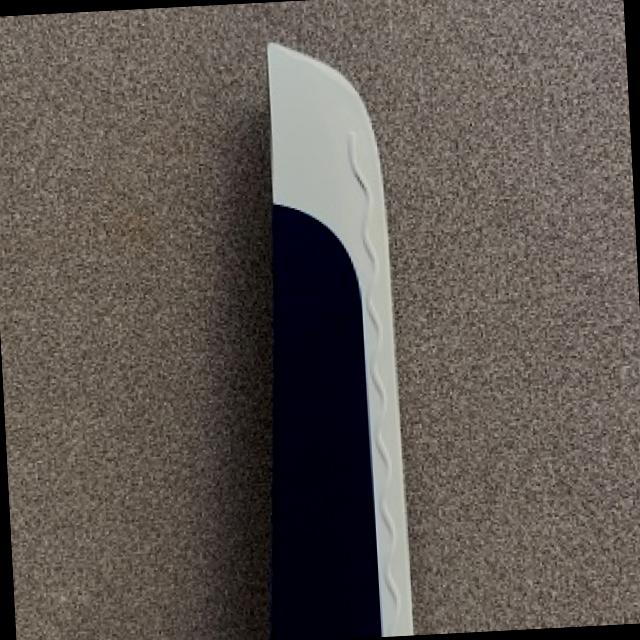healthy: (265, 43, 411, 640)
